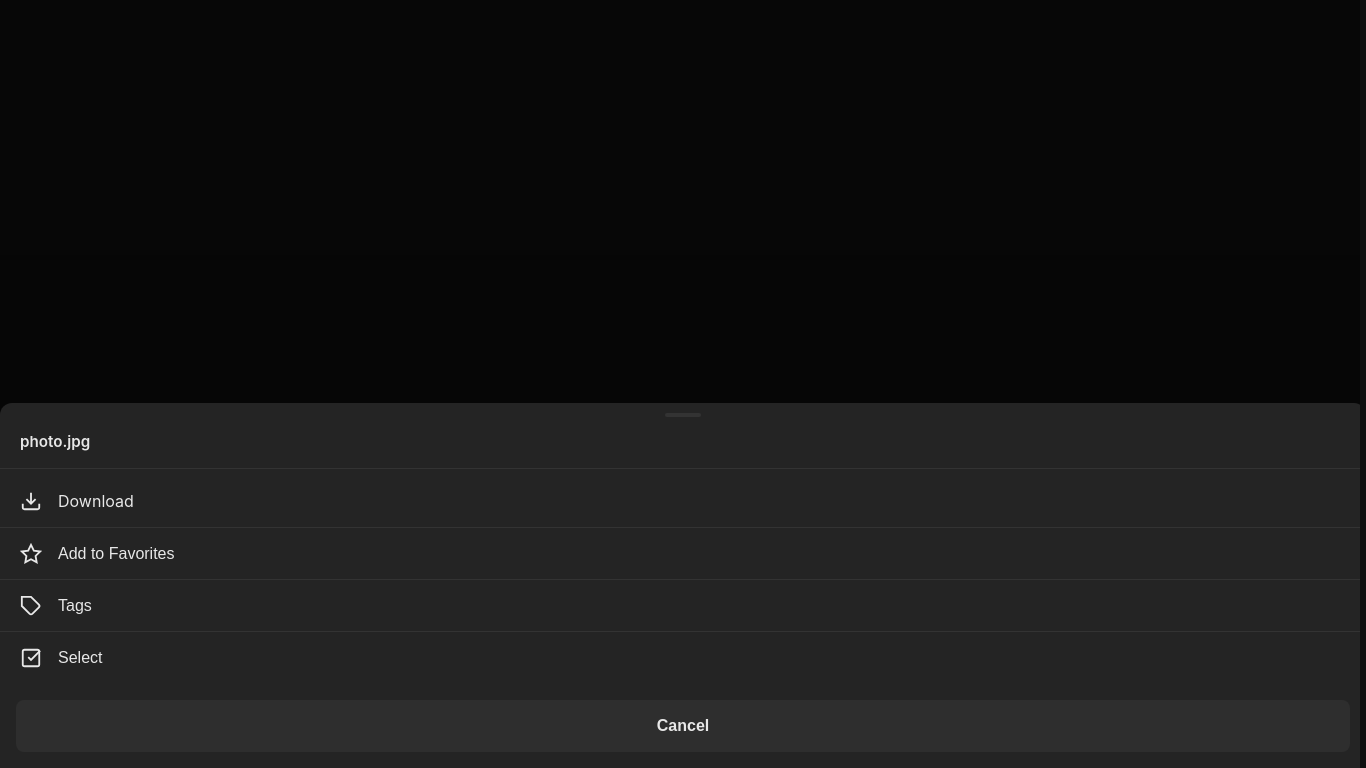
Test: GalleryContextMenu › closes the Tags sub-panel when Back is clicked
Click the button "Tags" at (75, 605), box [0, 580, 1365, 632]
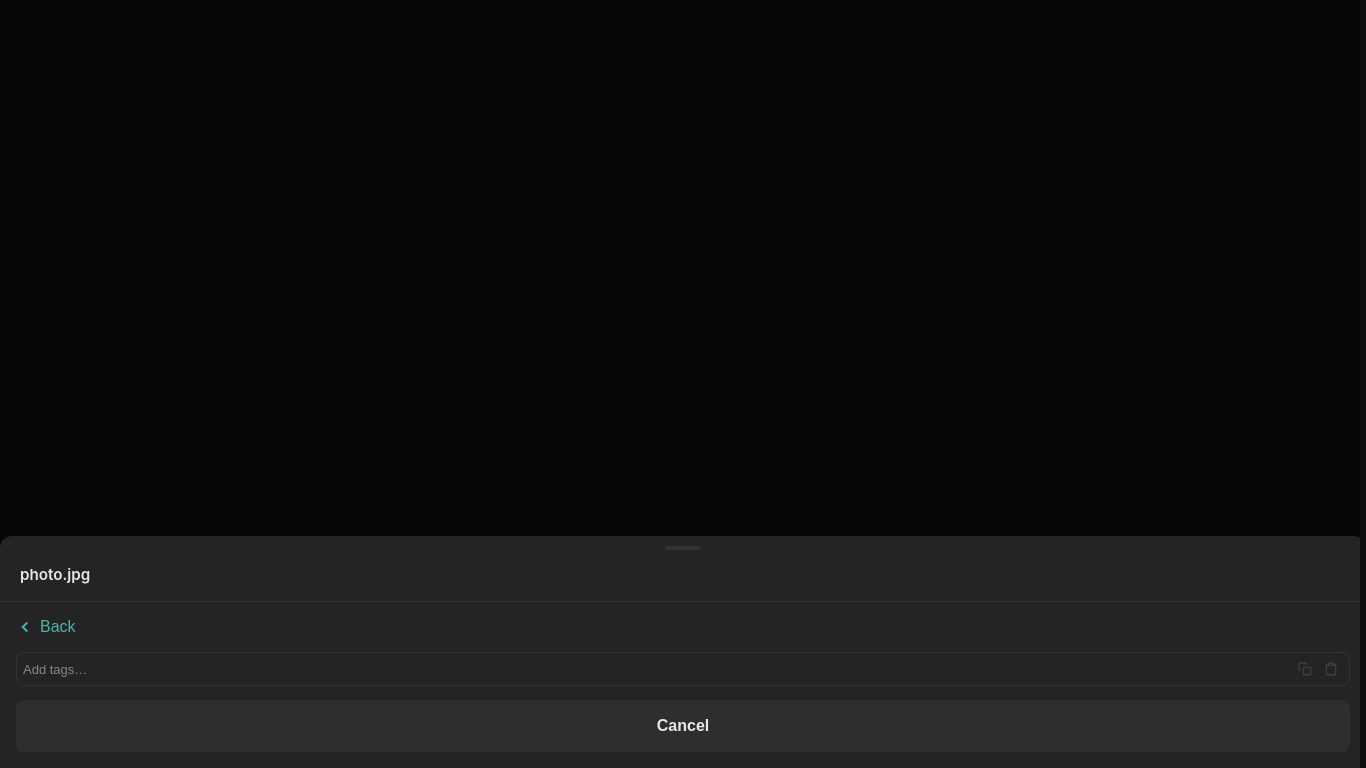
Expected: the button "Back" is shown
Click the button "Back" at (46, 629), box [16, 610, 76, 648]
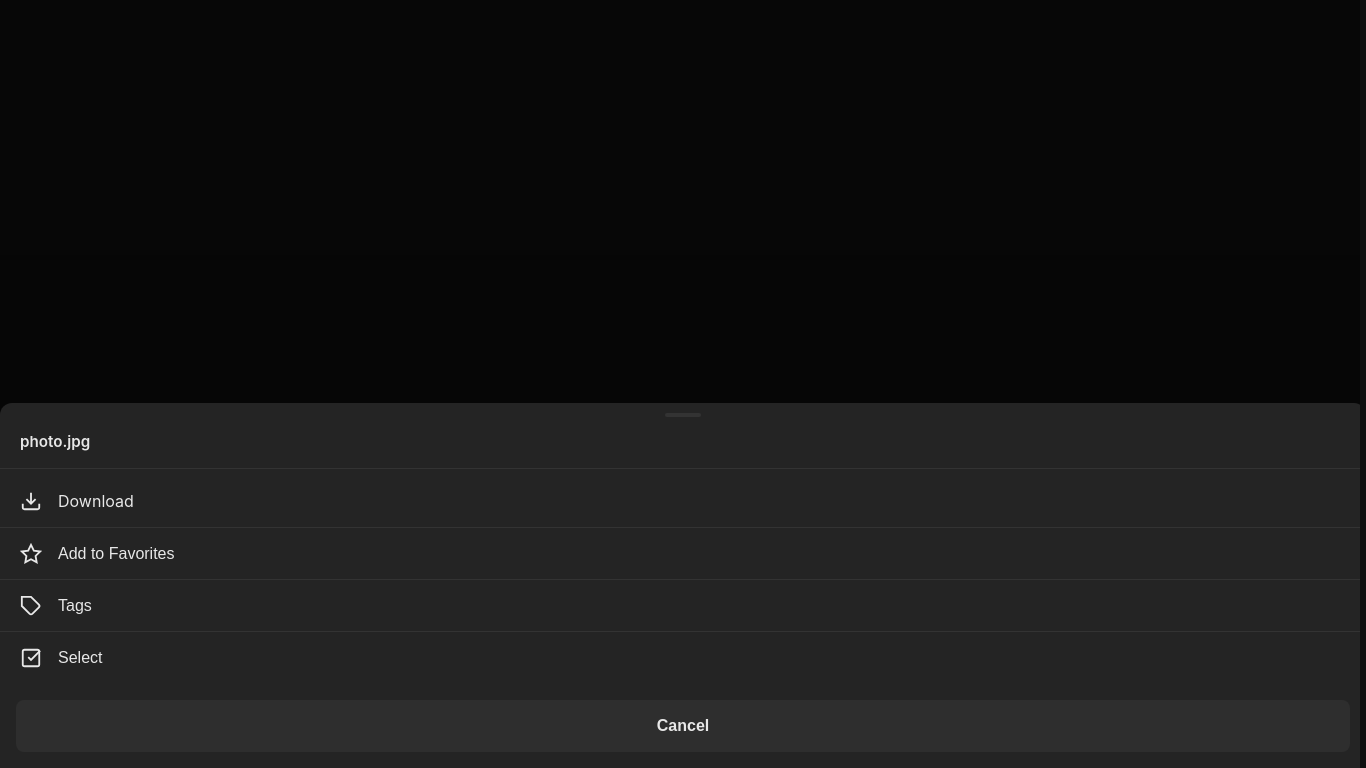
Expected: the button "Tags" is shown, [0, 580, 1365, 632]
